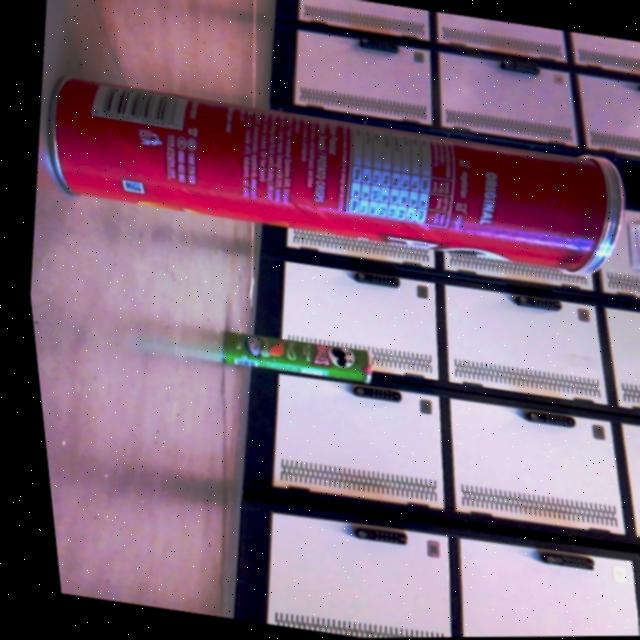greenpringles: (200, 311, 382, 394)
redpringles: (21, 66, 640, 292)
